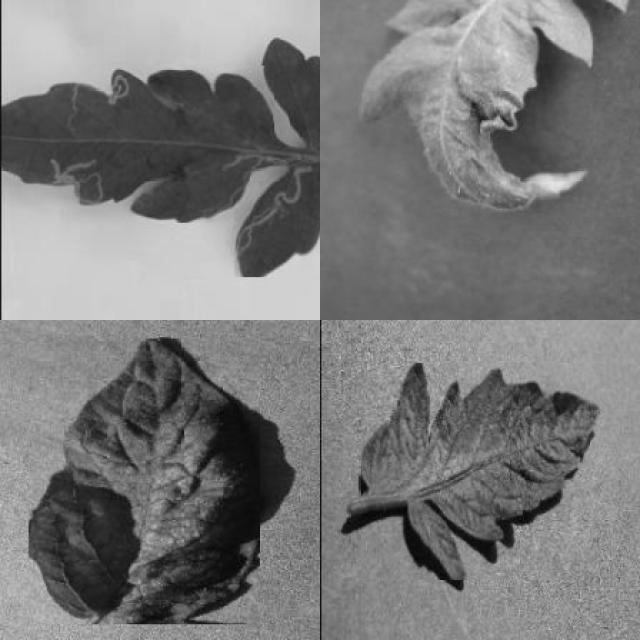Late Blight: (359, 0, 594, 213)
Leaf Miner: (0, 66, 274, 223), (234, 166, 320, 277)
Mosaic Virus: (360, 363, 600, 580)
Spider Mites: (29, 339, 260, 624)
